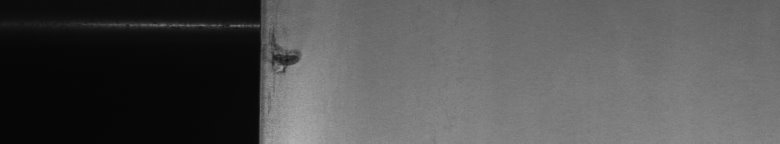hb: (272, 28, 307, 88)
